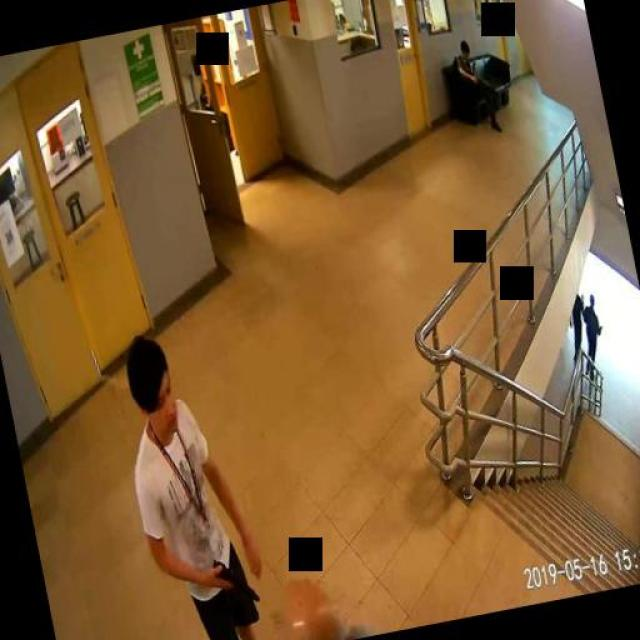gun: (210, 552, 259, 606)
